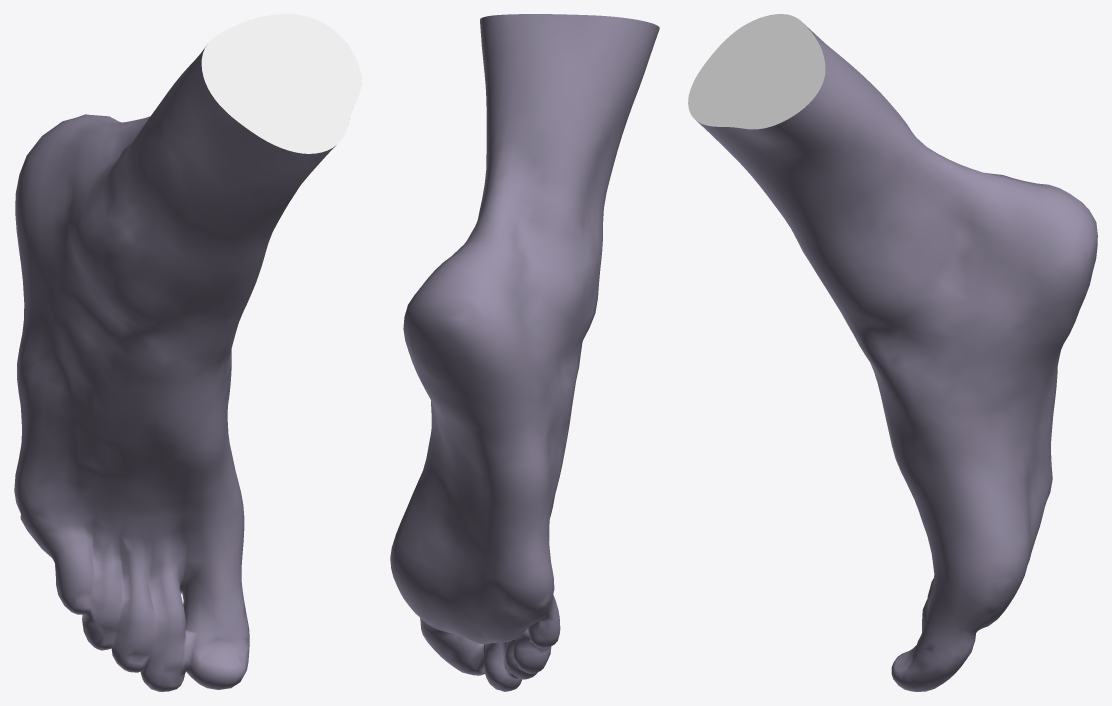
File: 脚_opt.glb
3 renders of one model, left to right at view 1: azimuth 30°, elevation 25°; view 2: azimuth 150°, elevation 25°; view 3: azimuth 270°, elevation 25°, orthographic. The views are drawn at different scales.
Parts seen in each view (by area): view 1: LegsArmands_6_UV_LOW, LegsArmands_6_UV_LOW001; view 2: LegsArmands_6_UV_LOW; view 3: LegsArmands_6_UV_LOW, LegsArmands_6_UV_LOW001.
Boxes of the visible parts, x1=… form: LegsArmands_6_UV_LOW: x1=14, y1=46, x2=336, y2=691; LegsArmands_6_UV_LOW001: x1=201, y1=14, x2=361, y2=153; LegsArmands_6_UV_LOW: x1=390, y1=14, x2=659, y2=691; LegsArmands_6_UV_LOW: x1=697, y1=24, x2=1097, y2=691; LegsArmands_6_UV_LOW001: x1=688, y1=14, x2=825, y2=129.
Bounding box in the file's own units: 0.1037 × 0.3484 × 0.2018.
